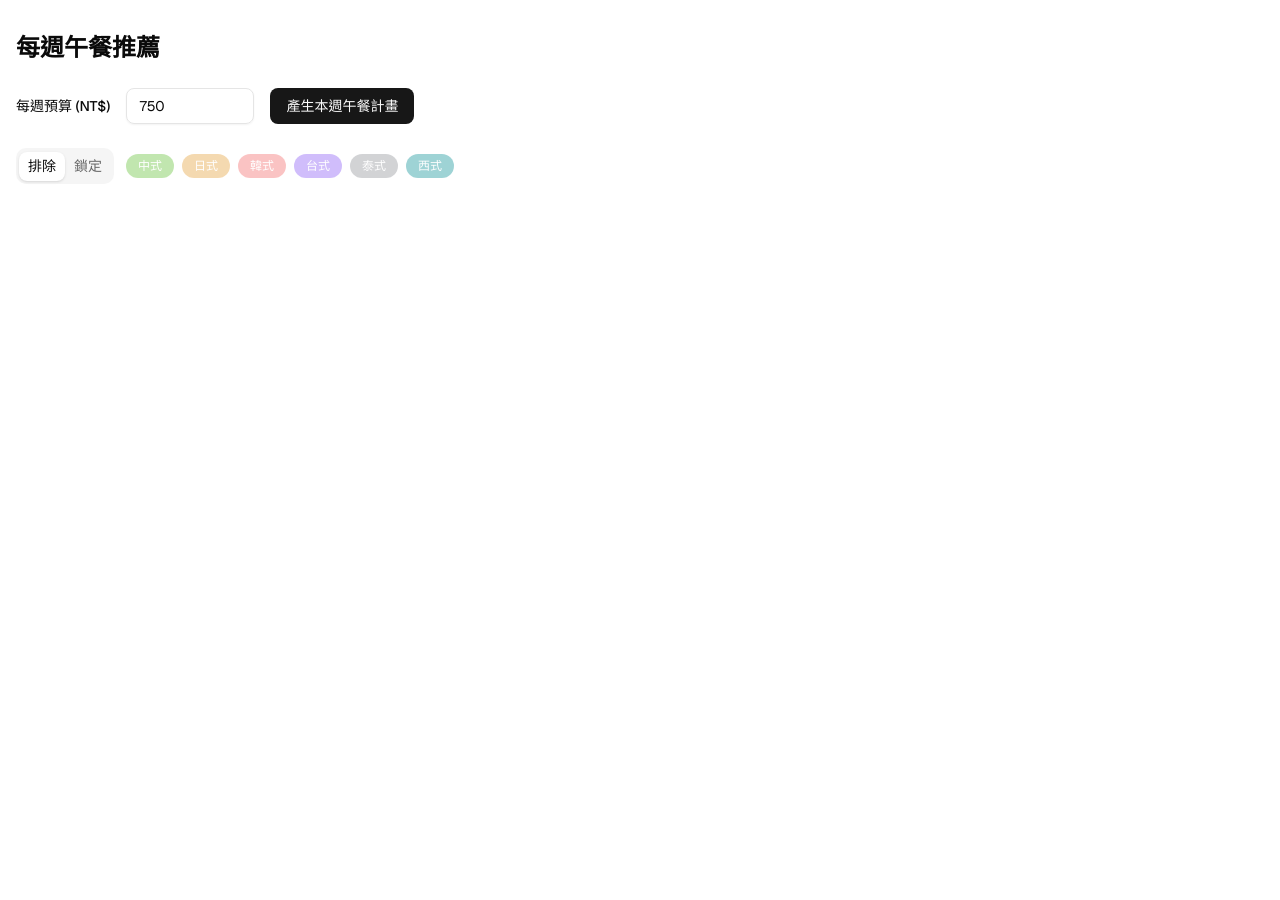
Test case: Integration: HomePage › plan history appears after 2nd generate
Step 1. Click the button "產生本週午餐計畫" → (342, 106), box [270,88,414,124]
Wait 3000 ms
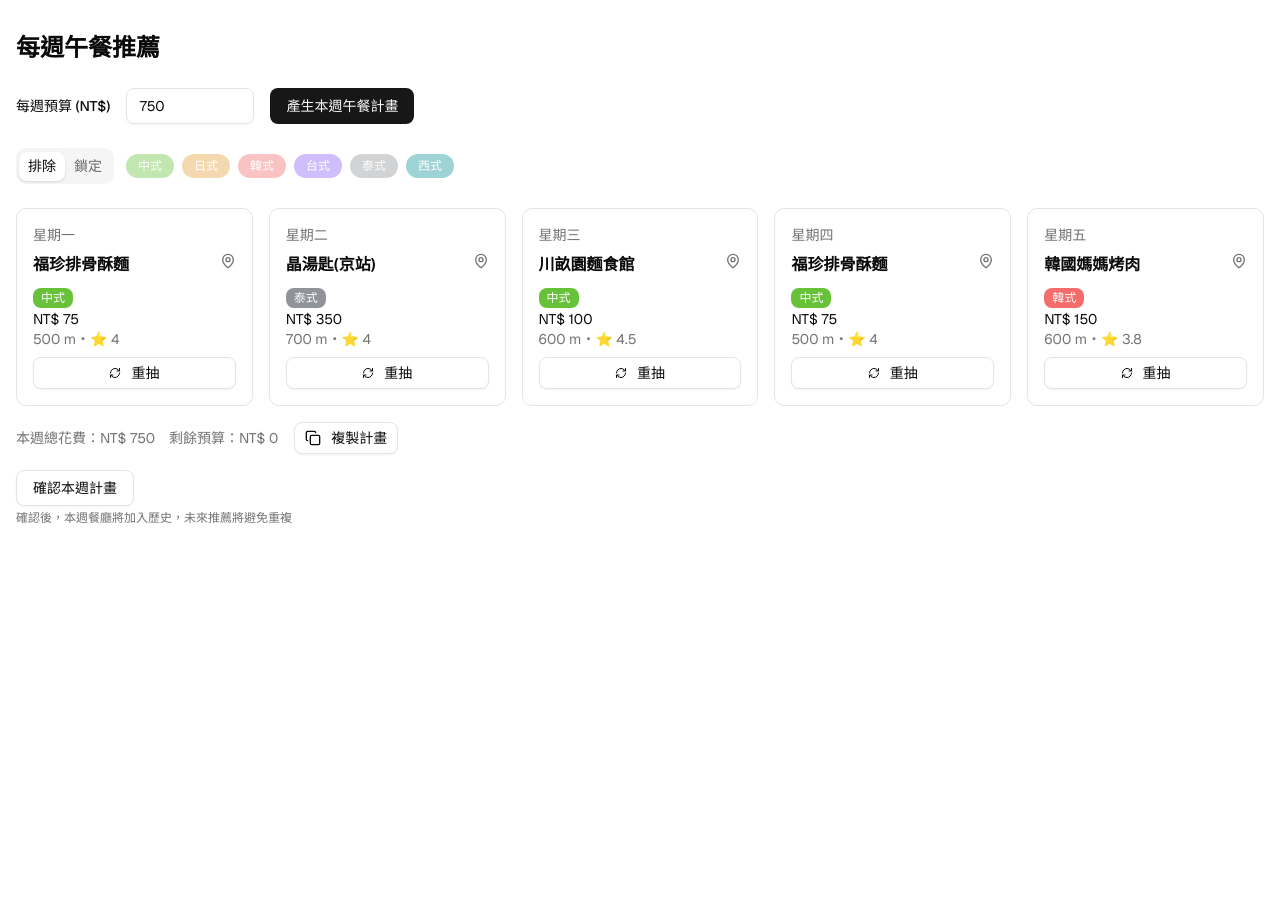
Check: the text "歷史計畫" is not shown
Step 2. Click the button "產生本週午餐計畫" → (342, 106), box [270,88,414,124]
Wait 3000 ms
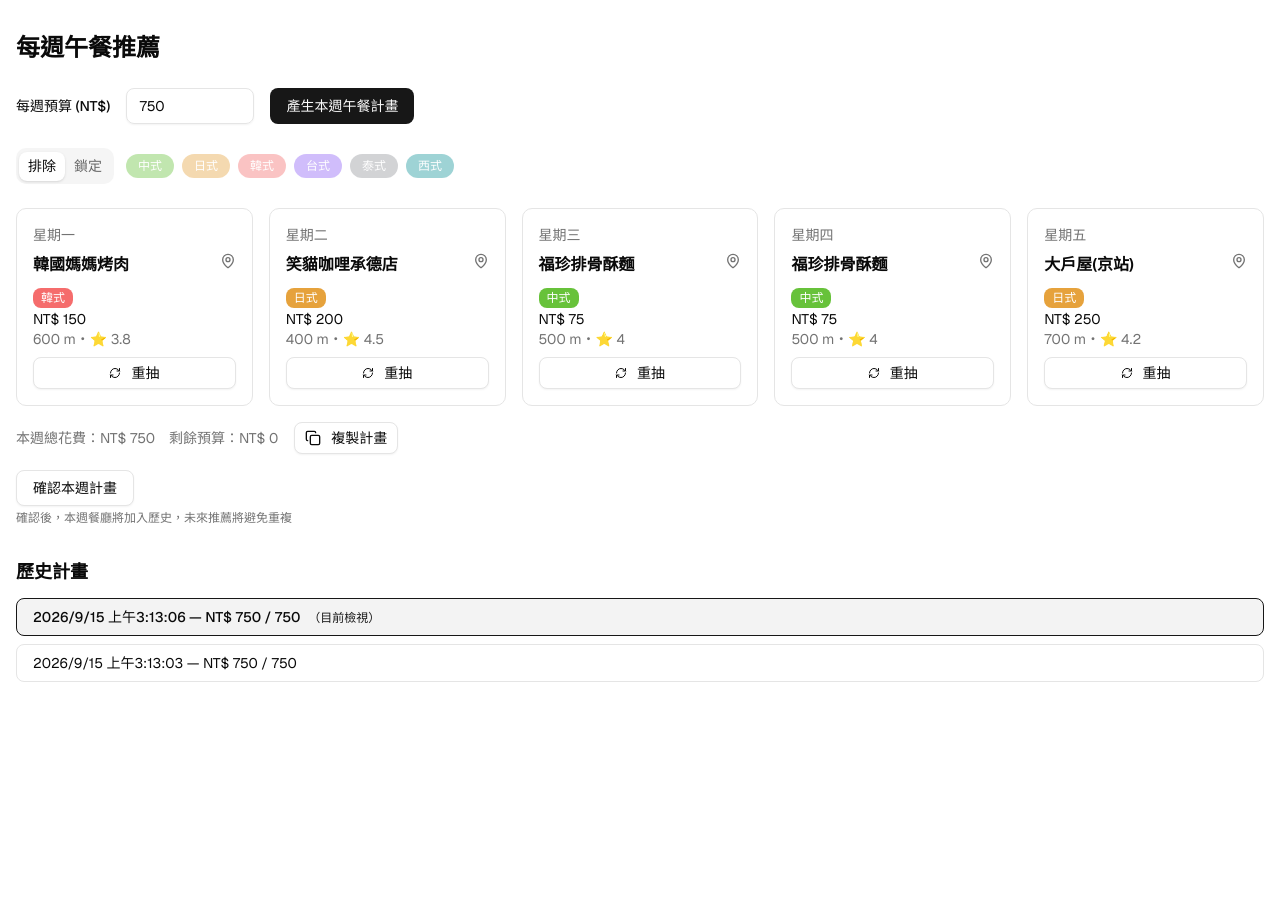
Check: the heading "歷史計畫" is shown, box [16,560,88,583]
